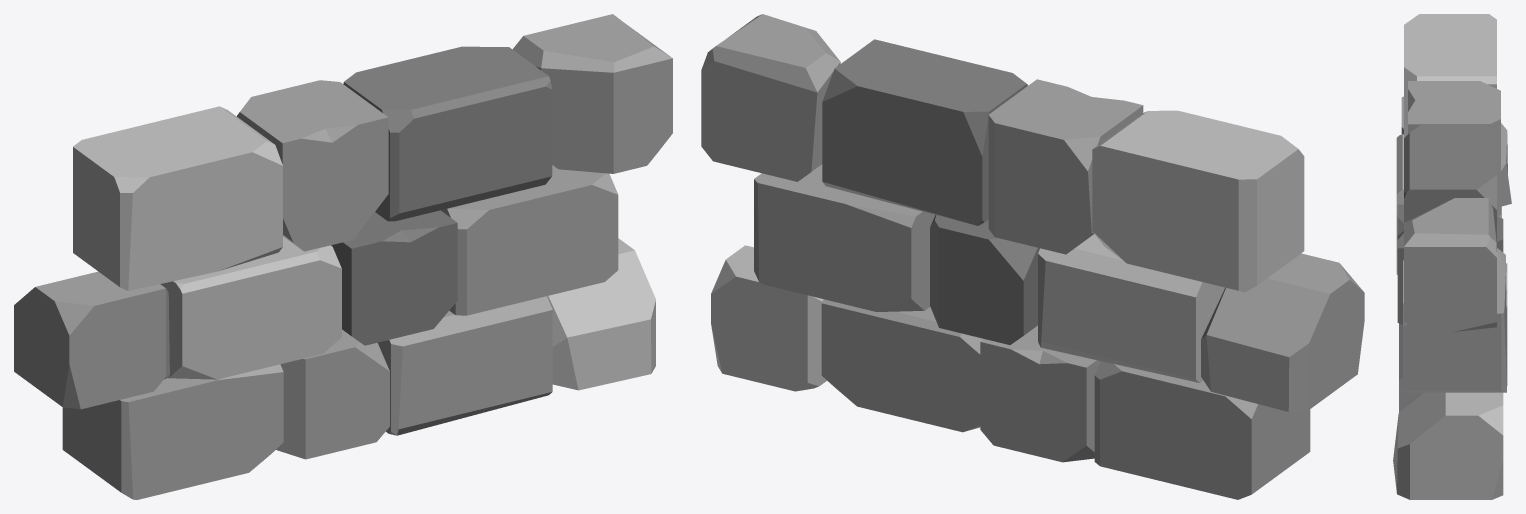
File: stone_wall.glb
The picture shows the model from 3 angles, left to right: view 1: azimuth 30°, elevation 25°; view 2: azimuth 150°, elevation 25°; view 3: azimuth 270°, elevation 25°; orthographic projection. The views are drawn at different scales.
Parts seen in each view (by area): view 1: StoneFence; view 2: StoneFence; view 3: StoneFence.
Boxes of the visible parts, <box> form: StoneFence: <box>14,14,672,499</box>; StoneFence: <box>701,14,1364,499</box>; StoneFence: <box>1393,14,1511,499</box>.
Bounding box in the file's own units: 1.89 × 0.9593 × 0.383.
1 material, 1 textured.
